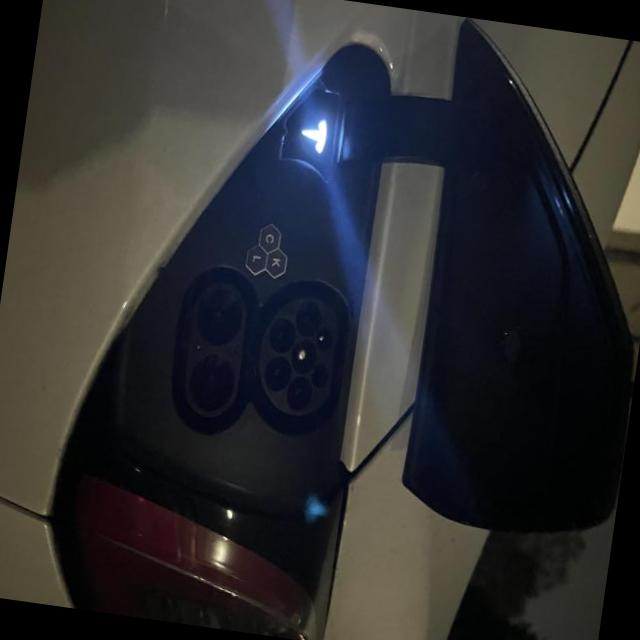inlet: (260, 297, 336, 415)
inlet-above-left: (315, 326, 333, 352)
inlet-above-right: (311, 364, 328, 389)
inlet-below-left: (268, 318, 295, 353)
inlet-below-right: (264, 357, 291, 391)
inlet-center: (290, 339, 316, 373)
inlet-center-left: (295, 302, 320, 336)
inlet-center-right: (286, 377, 312, 411)
